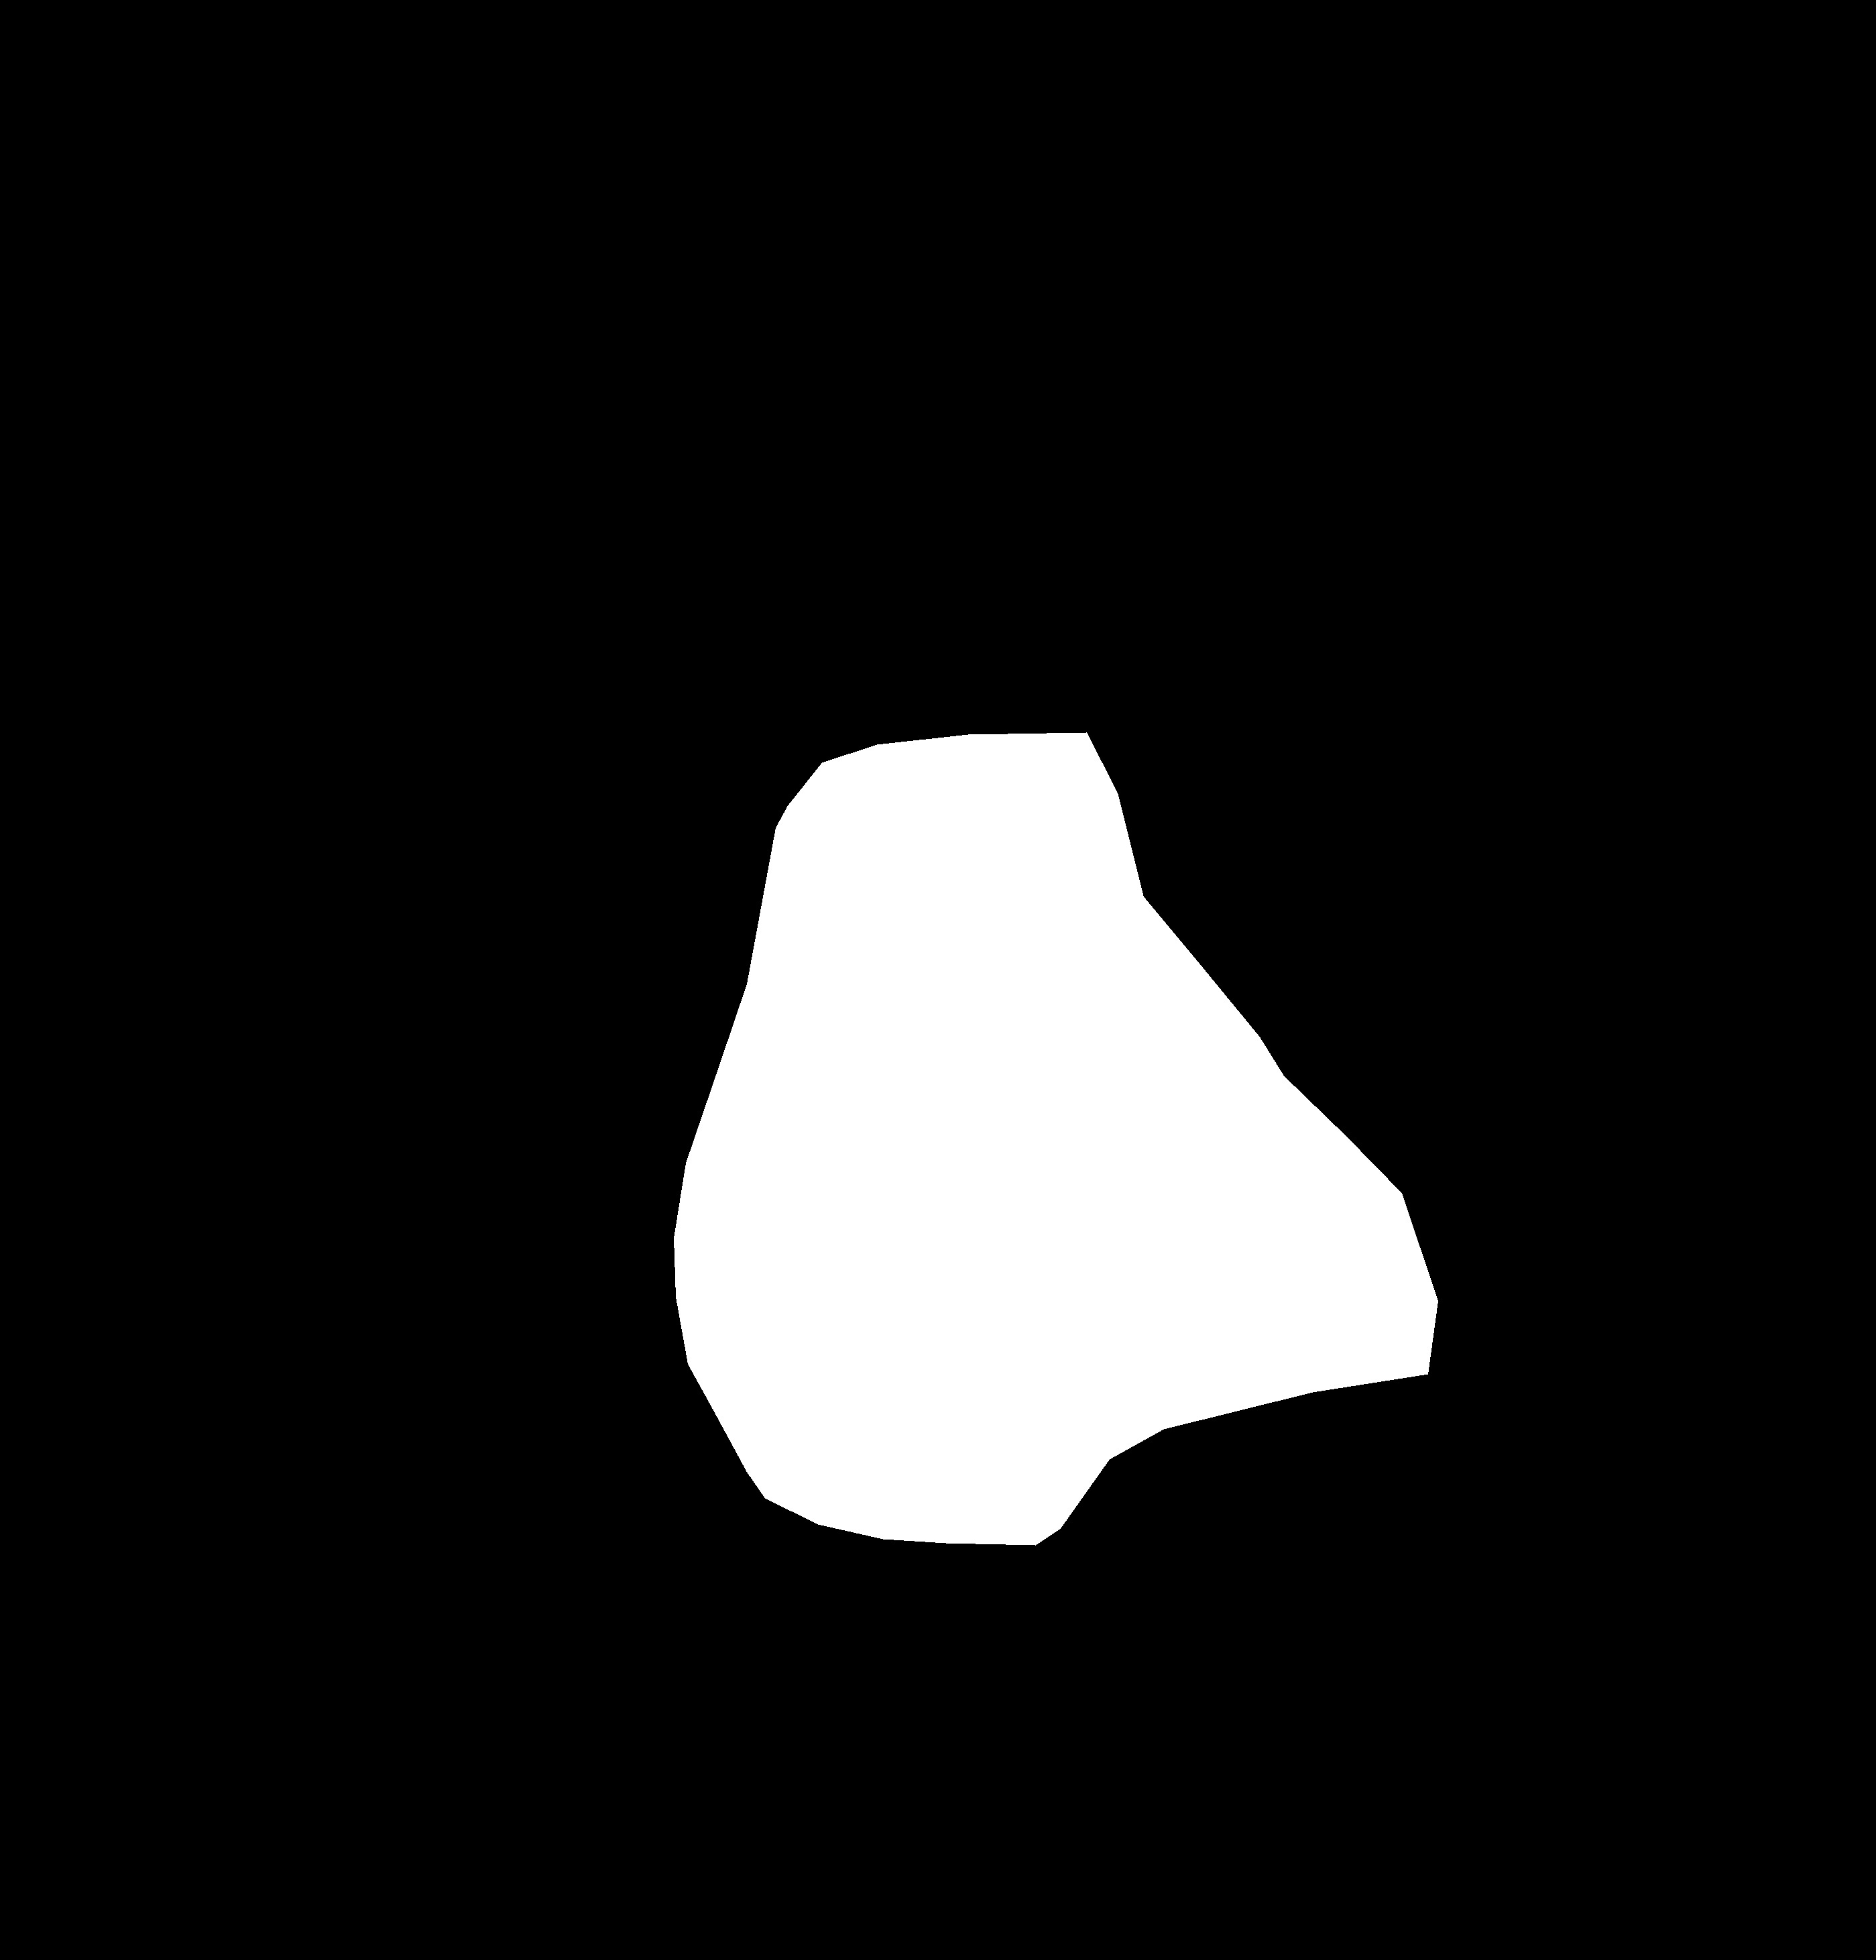heart: (674, 731, 1437, 1545)
left_lung: (56, 161, 835, 1516)
right_lung: (1010, 157, 1720, 1498)
